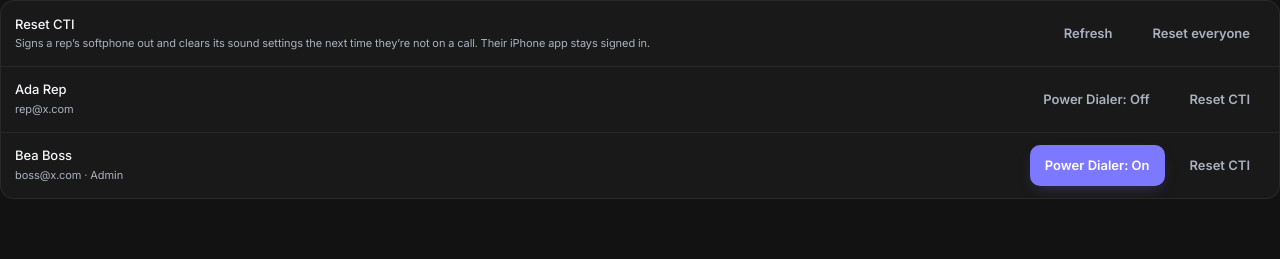
TeamPanel — Reset CTI buttons, status, refresh and errors › a failed Refresh says so
This screenshot has width=1280, height=259.
Expected: the text "Ada Rep" is shown, [15,81,66,97]
Step 1. Click the button "Refresh" → click(1088, 33), box [1049,13,1127,54]
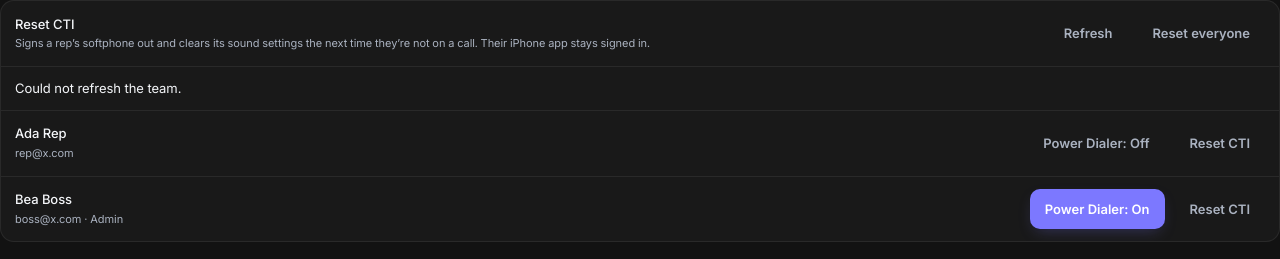
Result: the message reads "Could not refresh the team." at [15,80,181,96]
